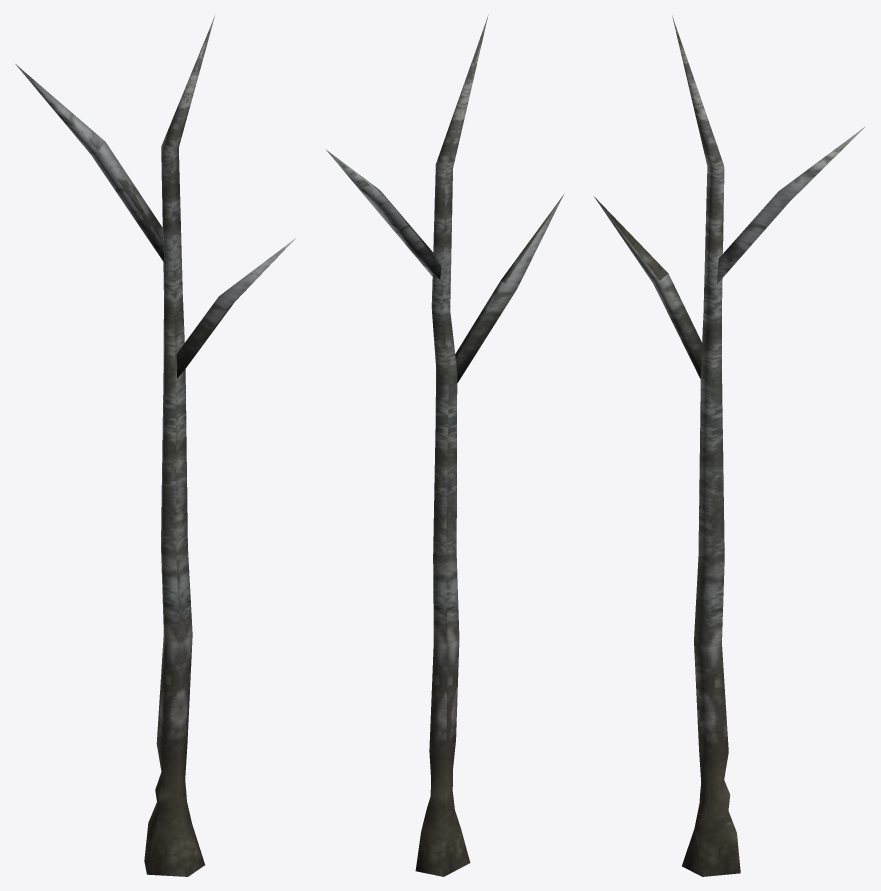
The model's file is distant-tree-28.glb.
3 views of the same model, side by side, from view 1: azimuth 90°, elevation 25°; view 2: azimuth 150°, elevation 25°; view 3: azimuth 270°, elevation 25° (orthographic). The views are drawn at different scales.
Parts seen in each view (by area): view 1: Tree_Trunk_02; view 2: Tree_Trunk_02; view 3: Tree_Trunk_02.
Boxes of the visible parts, bbox=[...] form: Tree_Trunk_02: bbox=[15, 16, 295, 876]; Tree_Trunk_02: bbox=[326, 15, 563, 876]; Tree_Trunk_02: bbox=[594, 15, 865, 876].
Size of the model in its own units: 124 by 977 by 288.
1 material, 1 textured.
